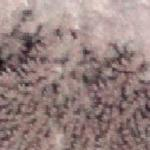alive: (3, 4, 146, 148)
